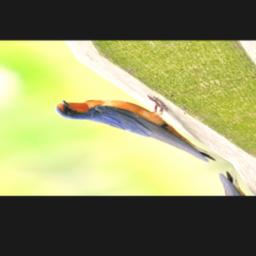Swallow: (42, 80, 229, 182)
